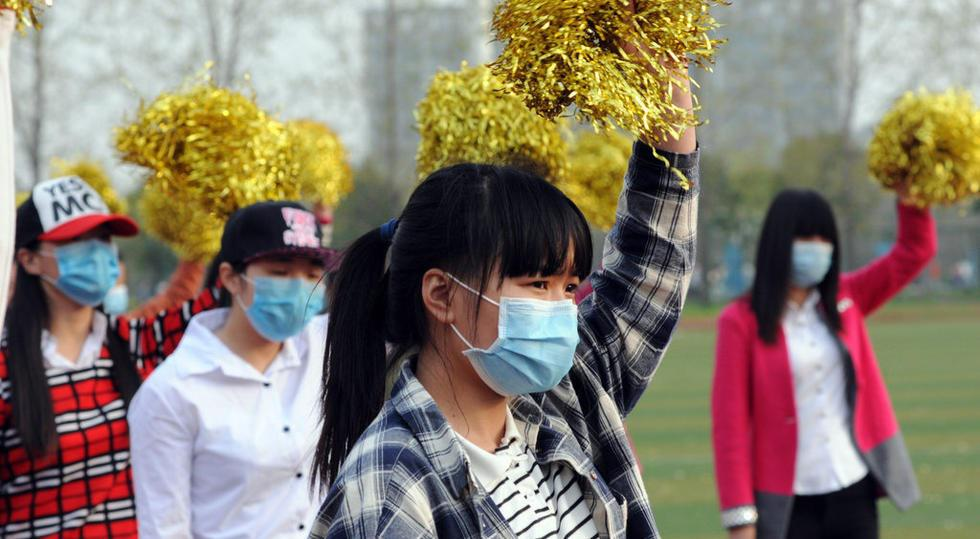OK: (445, 256, 584, 395), (246, 257, 326, 338), (41, 222, 119, 305), (785, 222, 839, 289)
